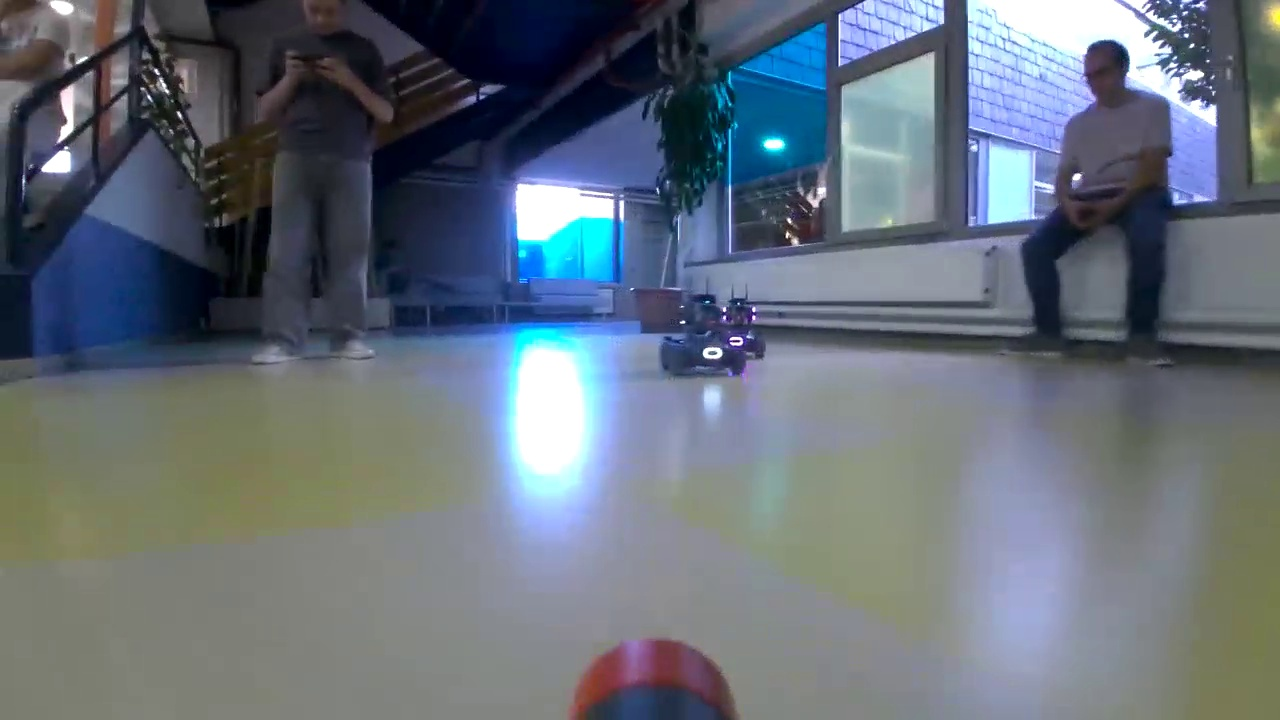robot: (660, 298, 748, 380), (718, 298, 772, 366)
